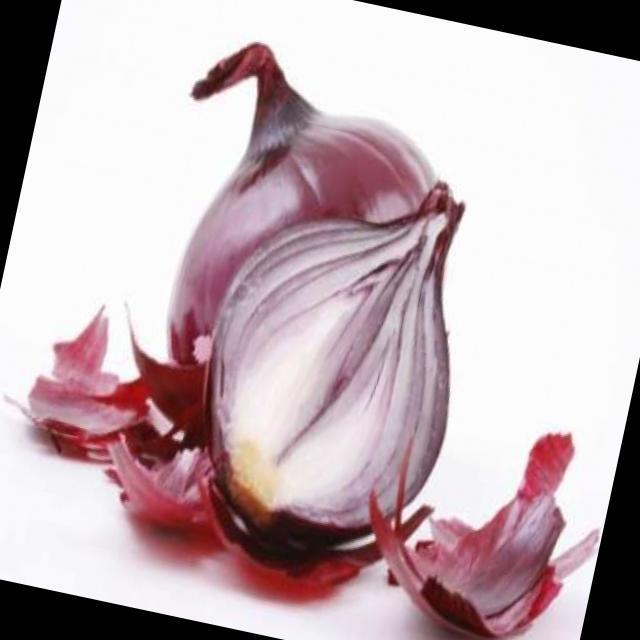ONIONS: (170, 147, 503, 593), (156, 28, 467, 396)
